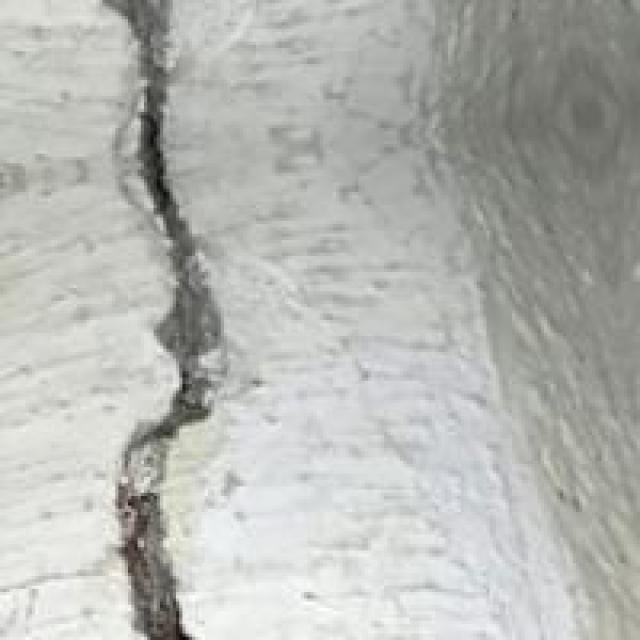crack: (54, 9, 253, 636)
